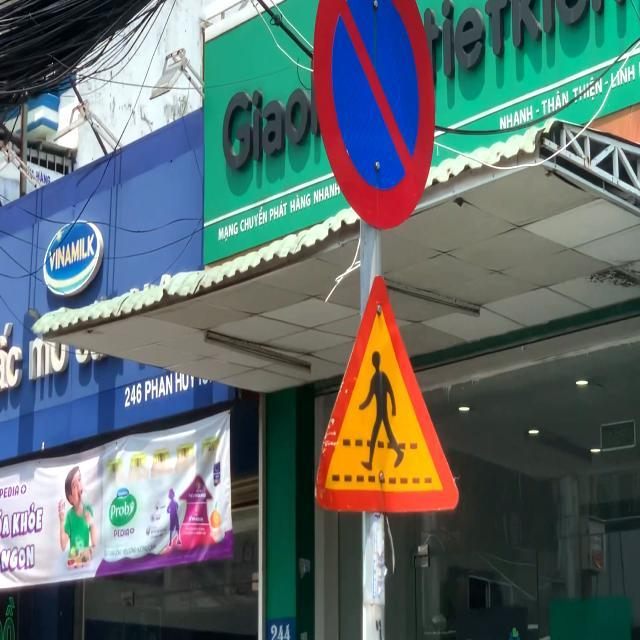W-224: (314, 279, 460, 512)
